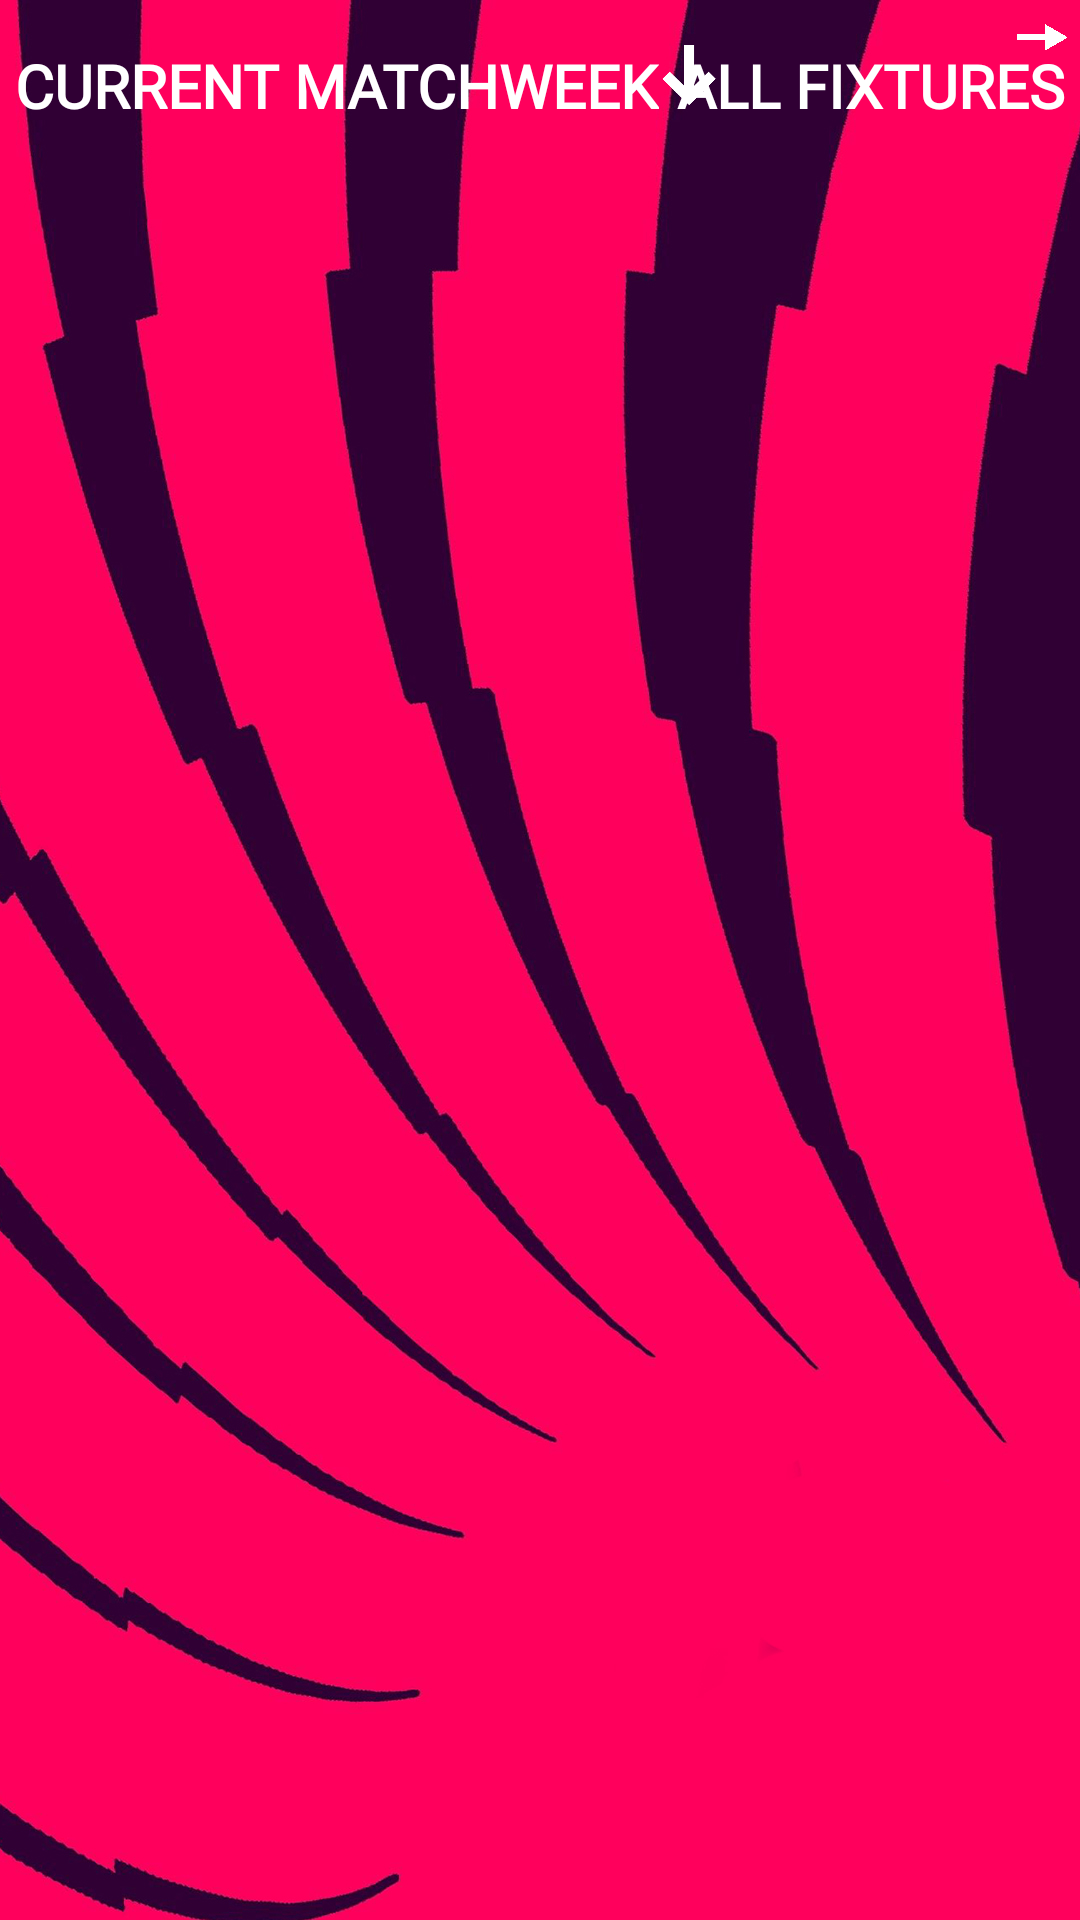

Named icons in this screenshot (1080x1920) and their bounding boxes, (x1, y1, x2, y2):
next: (1017, 24, 1067, 50)
